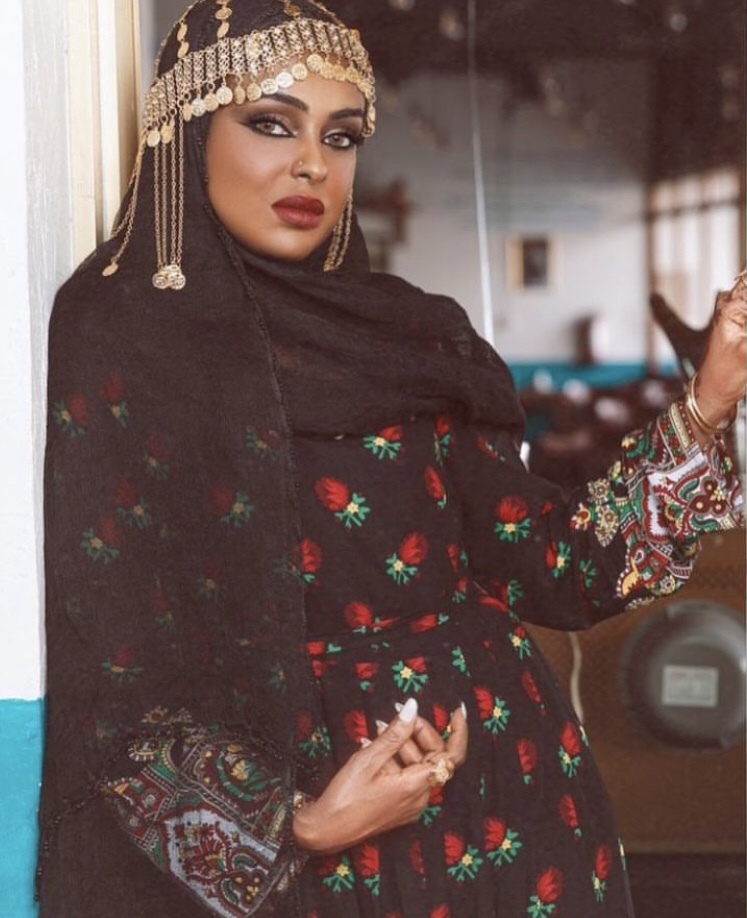Saudi_Founding_Day: (32, 2, 746, 918)
